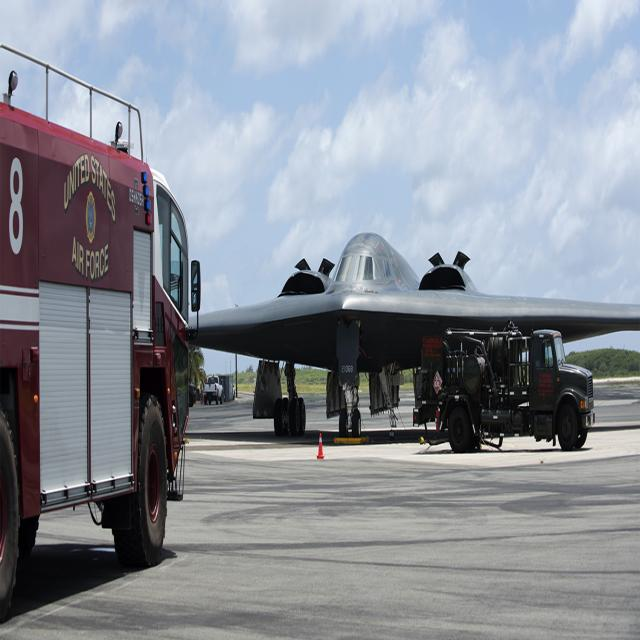MIL_Plane: (188, 296, 640, 373)
